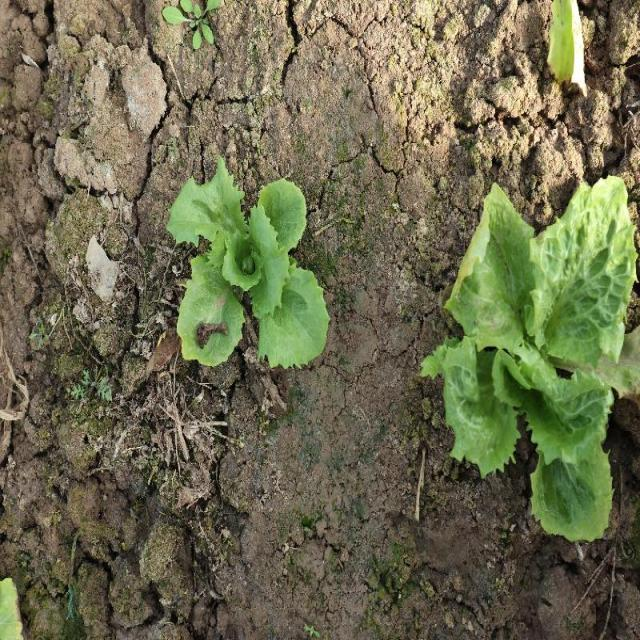crop: (424, 178, 640, 541), (168, 159, 330, 369)
